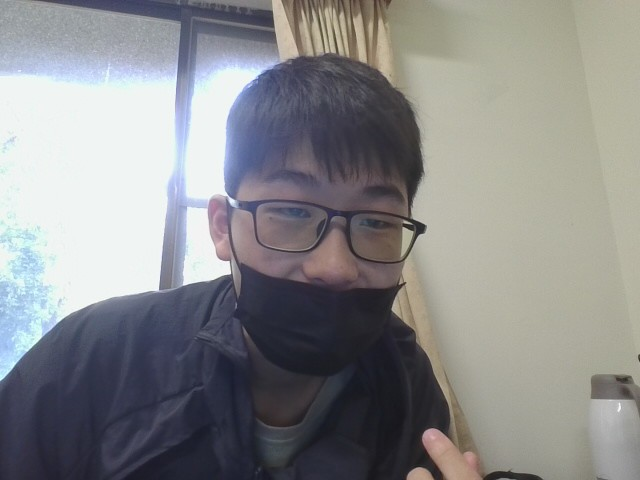No_Gloves: (381, 423, 502, 480)
No_Helmet: (212, 48, 428, 324)
person: (11, 37, 600, 479)
